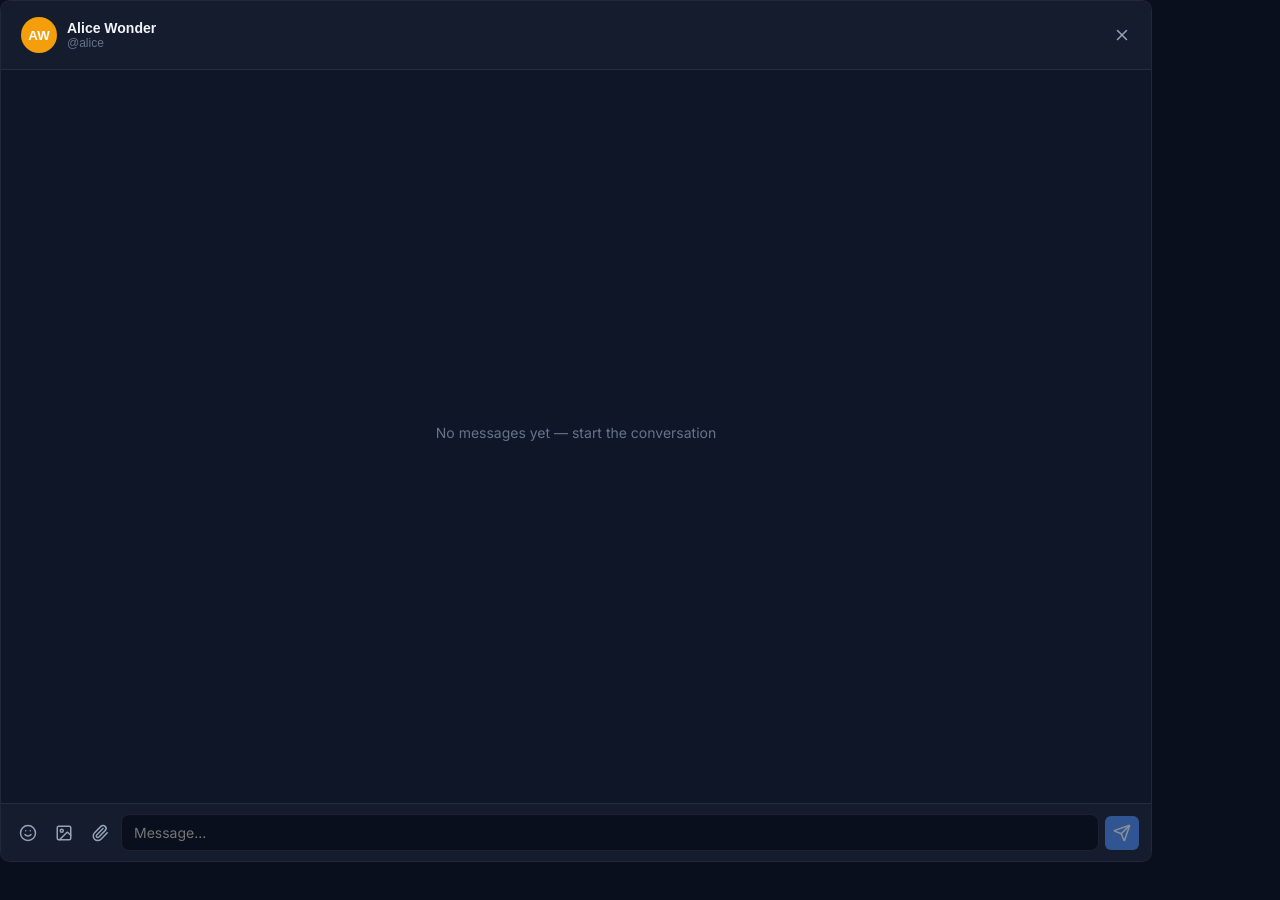
Test: ChatView › closes GIF picker when clicking outside
The image size is (1280, 900).
Check: the text "No messages yet — start the conversation" is shown, box [436,424,716,441]
Click the button named "GIF" at (100, 832), box [85,818,115,848]
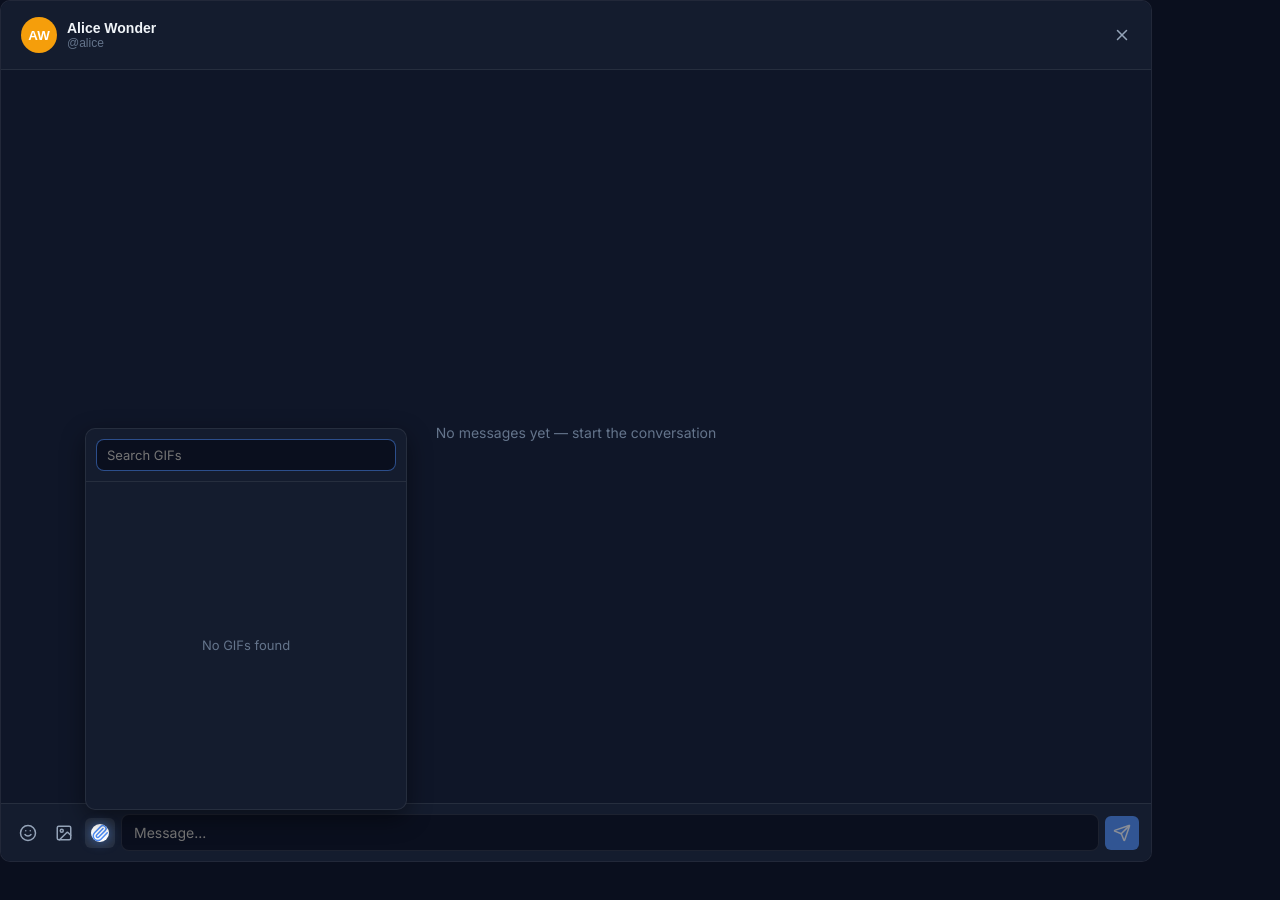
Check: the element with class "chat-gif-popover" is shown, box [85,428,407,810]
Press the mouse on the element showing "No messages yet — start the conversation" at (576, 432), box [436,424,716,441]
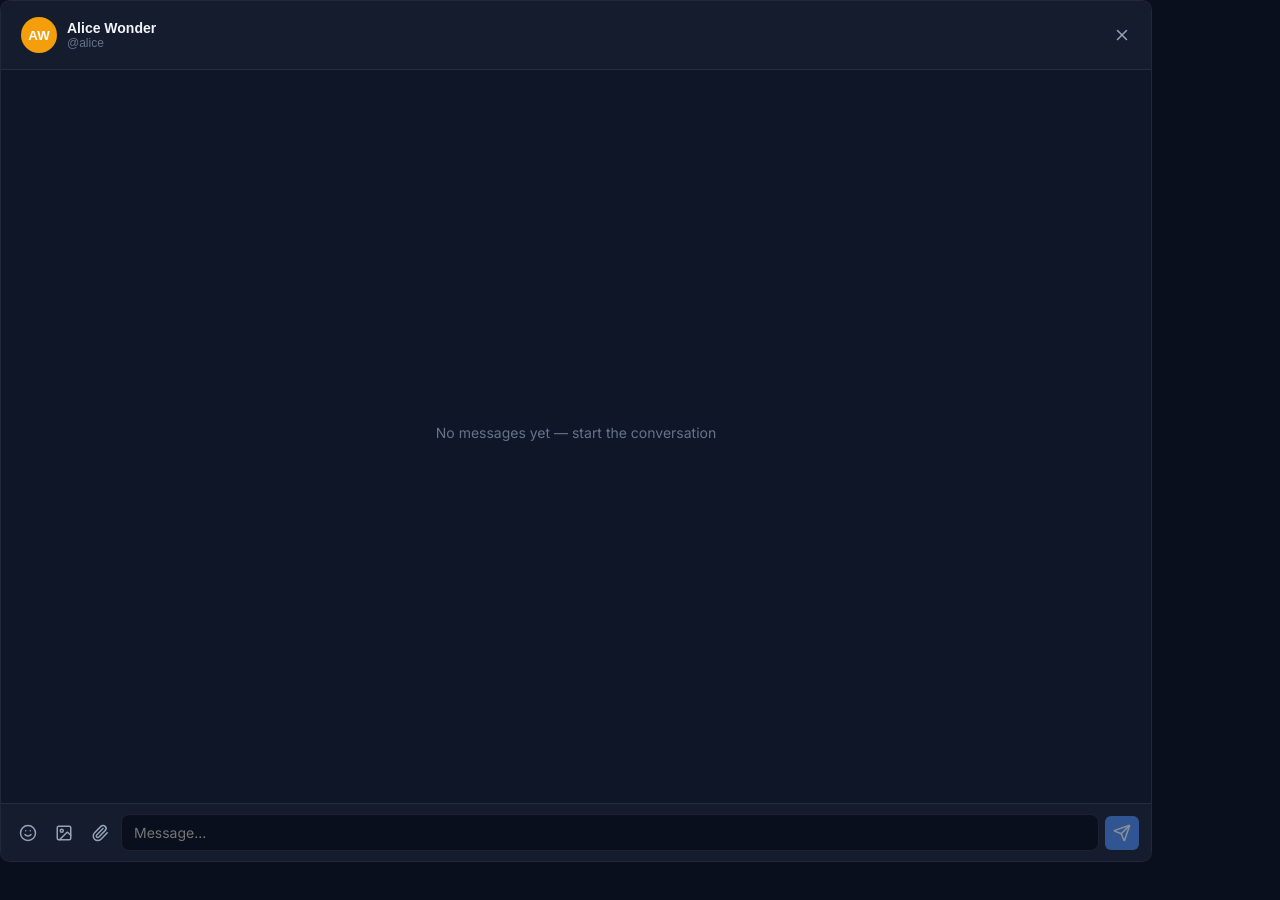
Check: the element with class "chat-gif-popover" is gone
